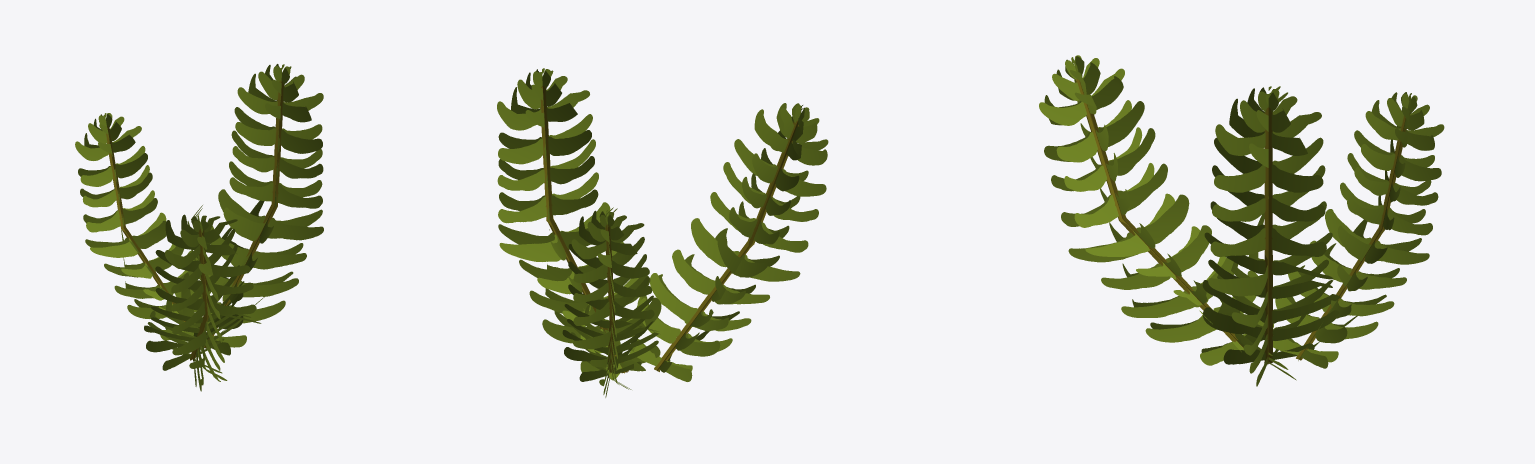
Rendered from sedum test.fbx.
3 views of the same model, side by side, from view 1: azimuth 30°, elevation 25°; view 2: azimuth 150°, elevation 25°; view 3: azimuth 270°, elevation 25° (orthographic). The views are drawn at different scales.
Parts seen in each view (by area): view 1: pPlane1; view 2: pPlane1; view 3: pPlane1.
Part boxes in pixels (x1=…): pPlane1: x1=75, y1=64, x2=323, y2=391; pPlane1: x1=497, y1=68, x2=828, y2=397; pPlane1: x1=1039, y1=55, x2=1444, y2=386.
Bounding box in the file's own units: 1.71 × 1.53 × 2.06.
